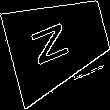N_E: (34, 16, 82, 70)
